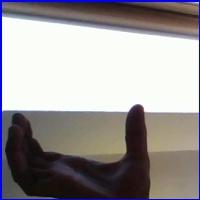space: (5, 93, 166, 194)
